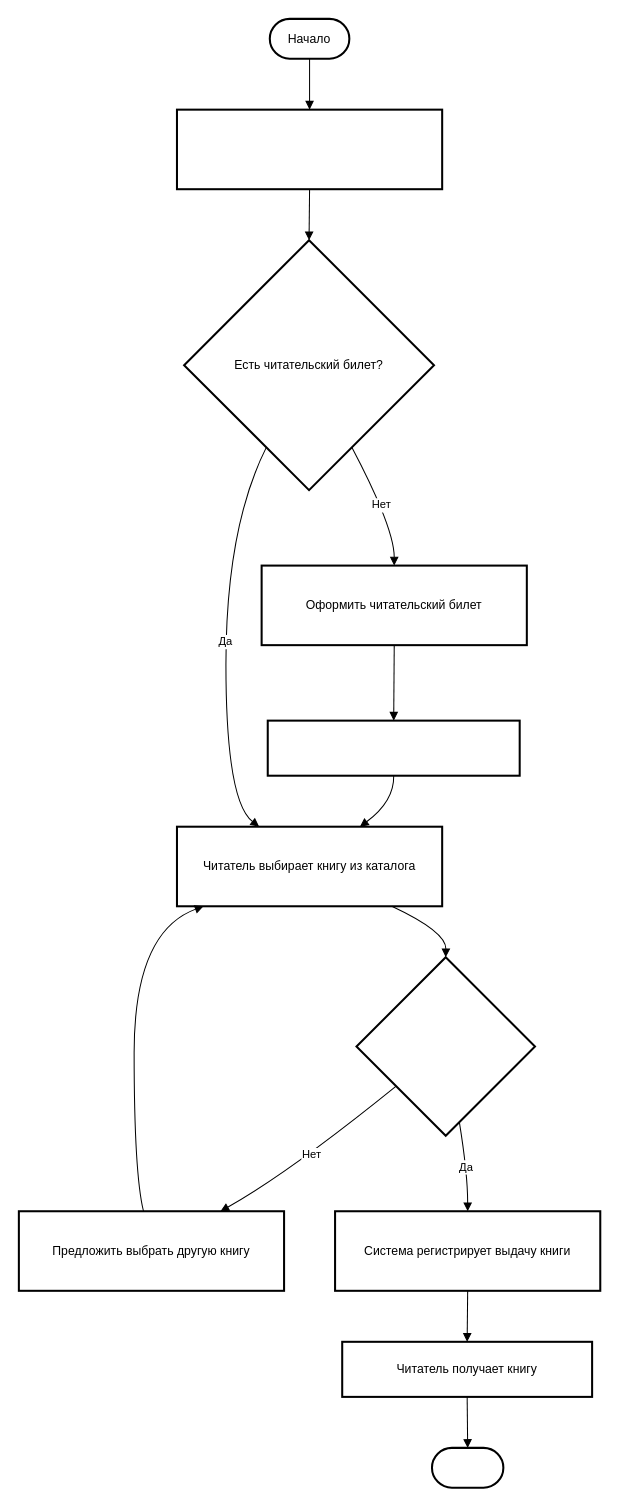
Some shapes in this 618 by 1506 pixel diagram are drawn without their labels. The shapes that lost their labels are listed below. From the top down, each one's centre as x and y in pixels, then its label:
At point 309,149: "Читатель приходит в библиотеку".
At point 393,747: "Читатель получает билет".
At point 445,1046: "Книга доступна?".
At point 467,1467: "Конец".
